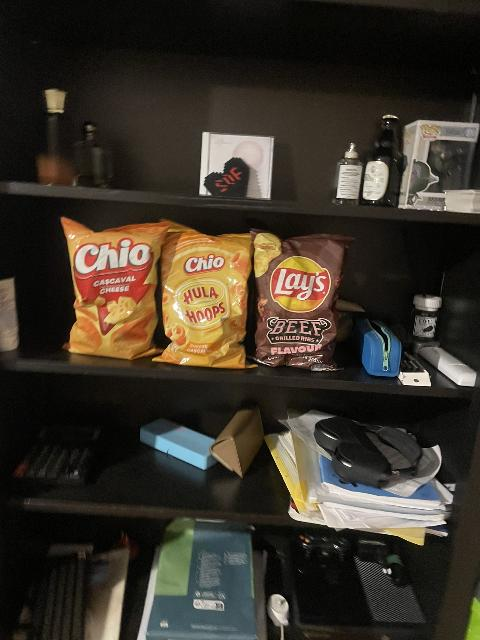Chio Cascaval 125g: (59, 216, 170, 361)
Chio Hula Hoops Cheese 70g: (153, 224, 257, 368)
Lays Beef Grilled Ribs 125g: (249, 229, 347, 367)
